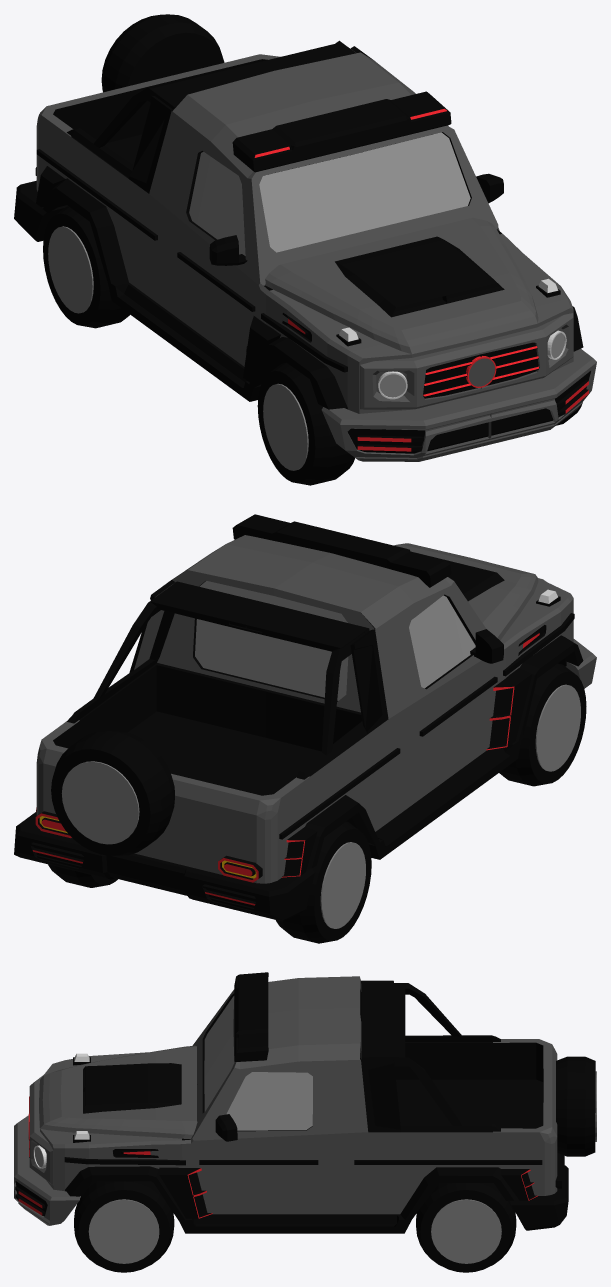
Rendered from Авто 17.fbx.
The picture shows the model from 3 angles, top to bottom: view 1: azimuth 30°, elevation 25°; view 2: azimuth 150°, elevation 25°; view 3: azimuth 270°, elevation 25°; orthographic projection. The views are drawn at different scales.
Visible parts, largest first — view 1: Cube, Cylinder.001, Cylinder; view 2: Cube, Cylinder.001; view 3: Cube, Cylinder.001.
Boxes of the visible parts, x1,y1,x2,y2 form: Cube: [14, 40, 596, 461]; Cylinder.001: [43, 14, 582, 485]; Cylinder: [466, 356, 496, 387]; Cube: [14, 514, 596, 921]; Cylinder.001: [48, 663, 586, 943]; Cube: [14, 972, 568, 1233]; Cylinder.001: [74, 1056, 596, 1272].
Size of the model in its own units: 125 by 112 by 272.
